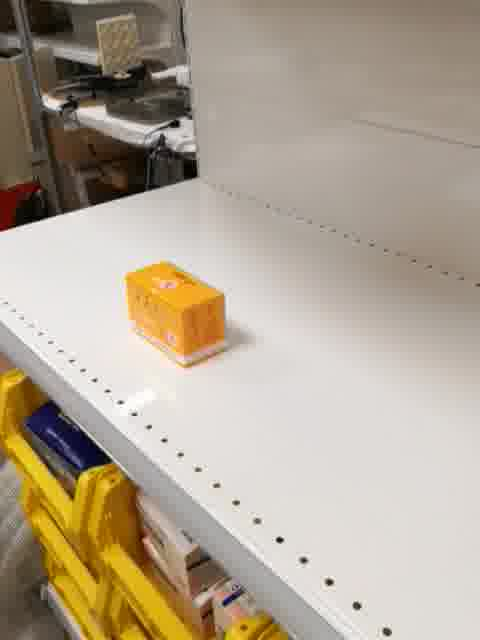jasminetea: (123, 259, 230, 369)
